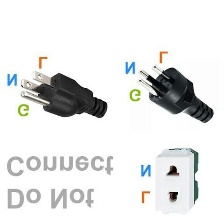three_eye_plug: (152, 144, 200, 219)
